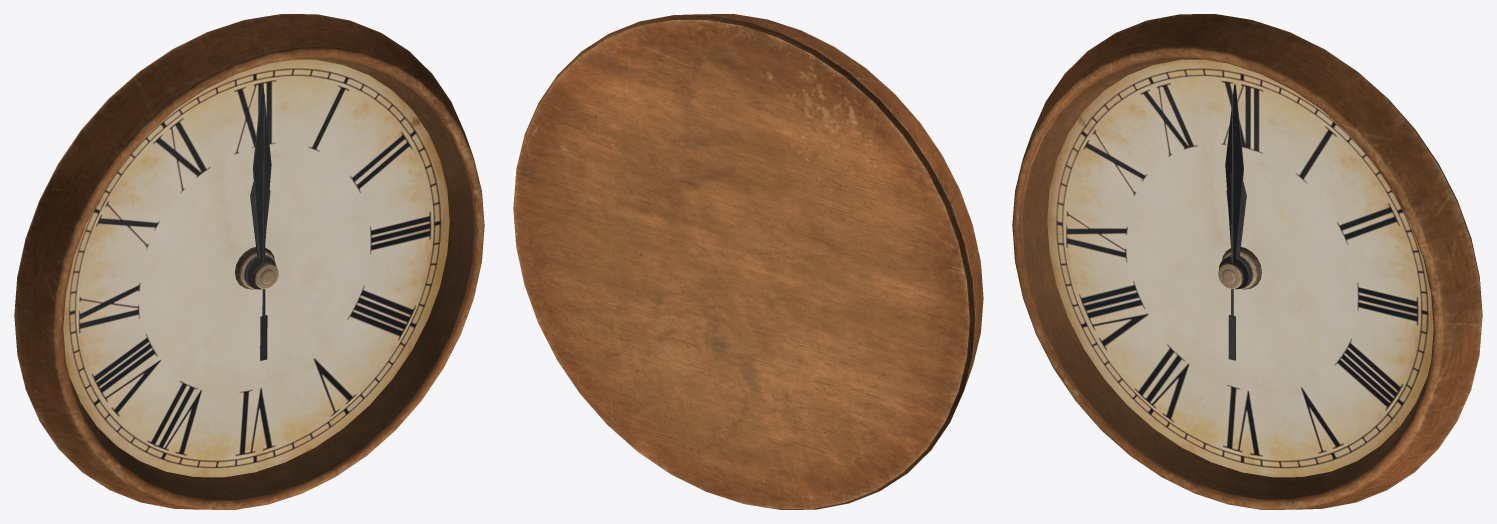
Rendered from clock.glb.
3 renders of one model, left to right at view 1: azimuth 30°, elevation 25°; view 2: azimuth 150°, elevation 25°; view 3: azimuth 330°, elevation 25°, orthographic.
Visible parts, largest first — view 1: clock_main, minute_hand, second_hand; view 2: clock_main; view 3: clock_main, minute_hand, second_hand.
Boxes of the visible parts, left/top/right/bottom form: clock_main: left=14, top=14, right=484, bottom=509; minute_hand: left=246, top=84, right=276, bottom=289; second_hand: left=260, top=94, right=267, bottom=360; clock_main: left=513, top=14, right=983, bottom=509; clock_main: left=1012, top=14, right=1482, bottom=509; minute_hand: left=1219, top=84, right=1249, bottom=289; second_hand: left=1228, top=94, right=1235, bottom=360.
Bounding box in the file's own units: 34.14 × 34.14 × 3.53.
2 materials, 2 textured.
